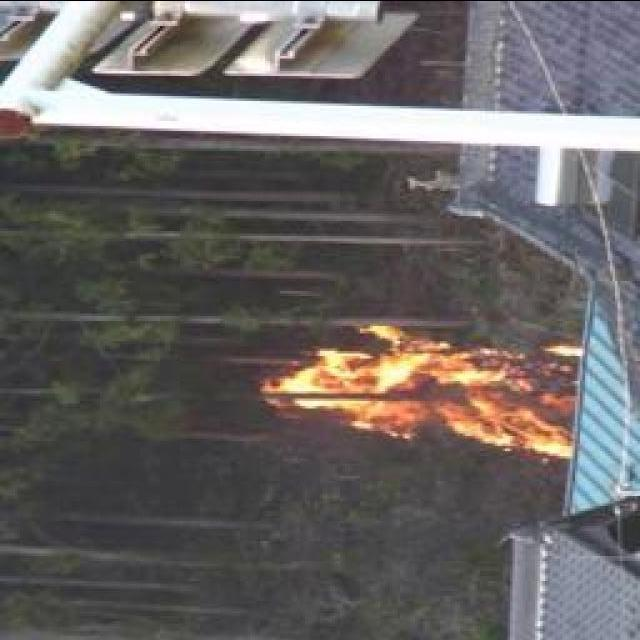Fire: (267, 326, 591, 447)
